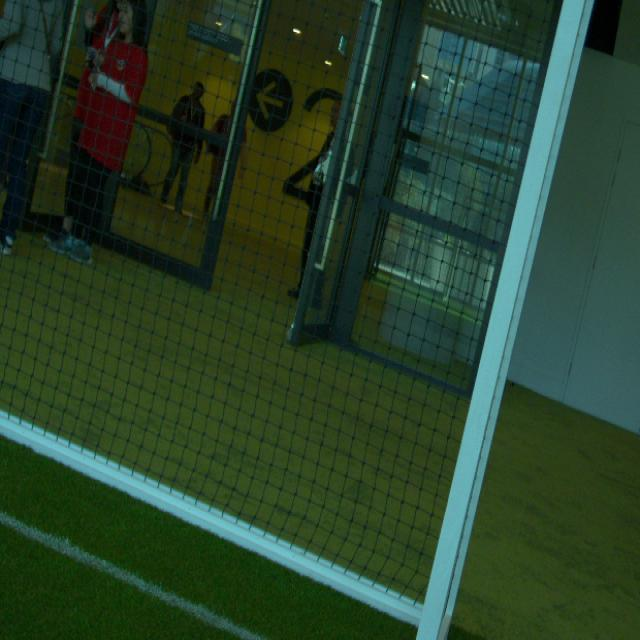goalpost: (416, 0, 587, 635)
